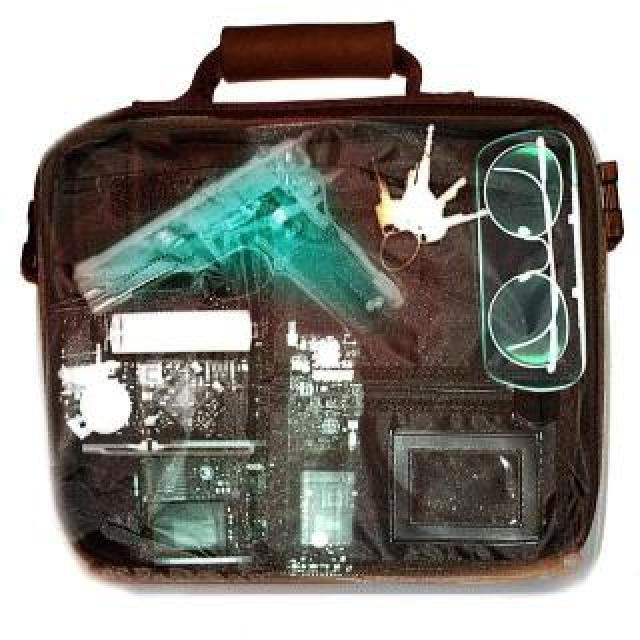gun: (70, 138, 408, 342)
